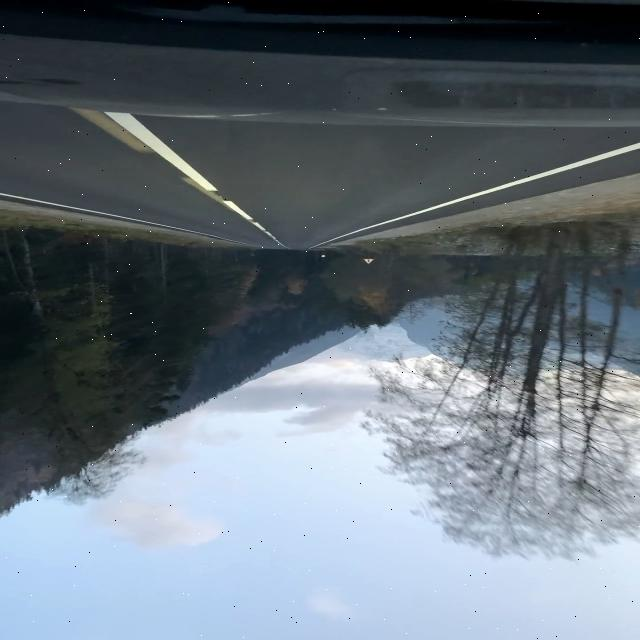lane: (311, 143, 640, 247), (104, 113, 218, 191), (224, 201, 250, 221)
road: (137, 116, 637, 249), (0, 102, 278, 248)
